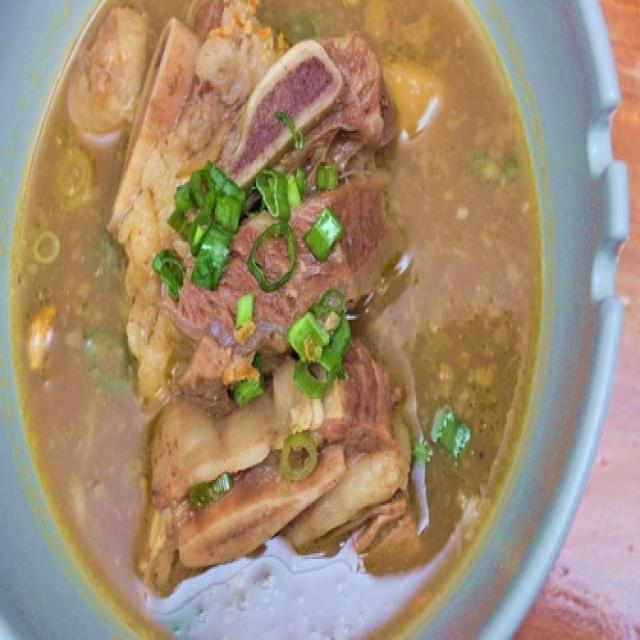汤锅炖物: (9, 10, 626, 622)
